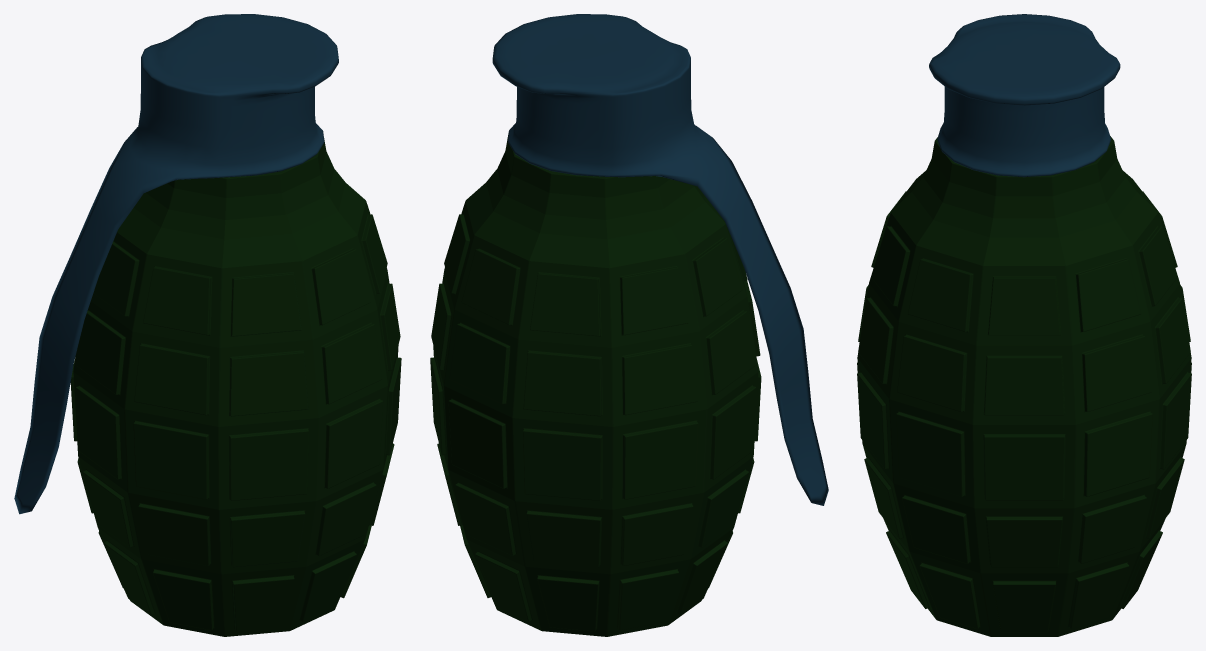
File: bomba.fbx
3 views of the same model, side by side, from view 1: azimuth 30°, elevation 25°; view 2: azimuth 150°, elevation 25°; view 3: azimuth 270°, elevation 25° (orthographic).
Visible parts, largest first — view 1: Base, Tapa; view 2: Base, Tapa; view 3: Base, Tapa.
Part boxes in pixels (x1,y1,x2,y2): Base: [70, 138, 401, 636]; Tapa: [14, 14, 338, 514]; Base: [430, 133, 761, 636]; Tapa: [492, 14, 828, 505]; Base: [857, 136, 1191, 636]; Tapa: [929, 14, 1120, 177].
Size of the model in its own units: 550 by 779 by 438.
